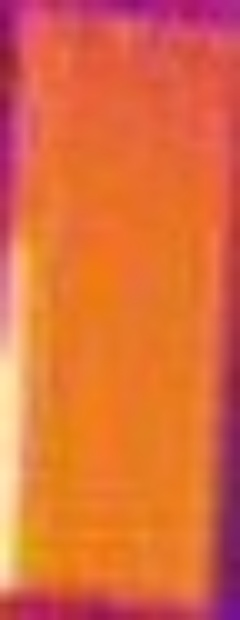Diode: (1, 238, 44, 597)
